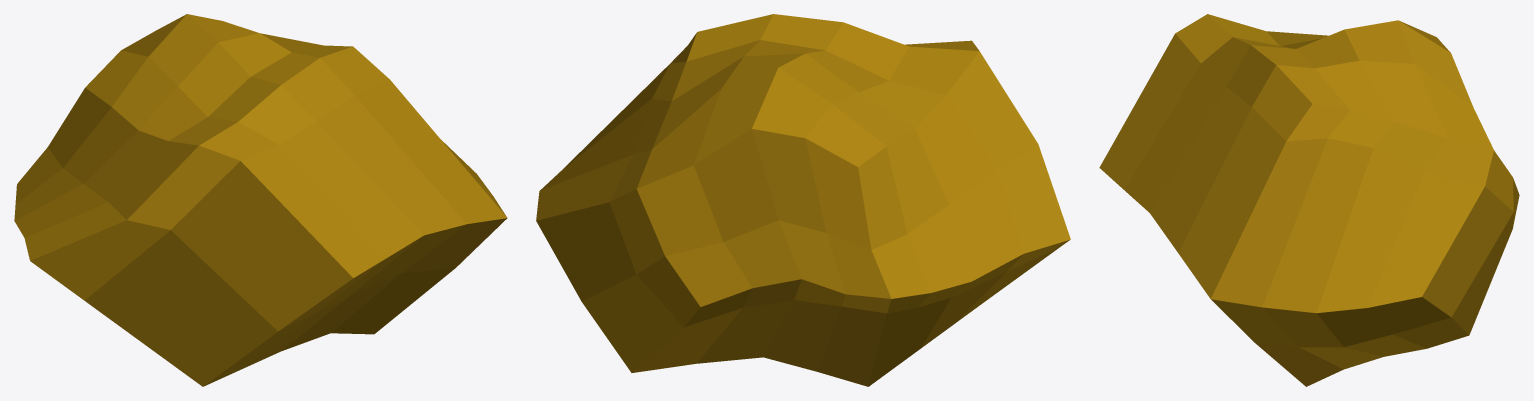
The model's file is rock1.fbx.
The picture shows the model from 3 angles, left to right: view 1: azimuth 30°, elevation 25°; view 2: azimuth 150°, elevation 25°; view 3: azimuth 270°, elevation 25°; orthographic projection. The views are drawn at different scales.
Visible parts, largest first — view 1: pPlatonic1; view 2: pPlatonic1; view 3: pPlatonic1.
Part boxes in pixels (x1=…): pPlatonic1: x1=14, y1=14, x2=507, y2=386; pPlatonic1: x1=536, y1=14, x2=1070, y2=386; pPlatonic1: x1=1099, y1=14, x2=1519, y2=386.
Size of the model in its own units: 2.94 by 1.93 by 2.44.
